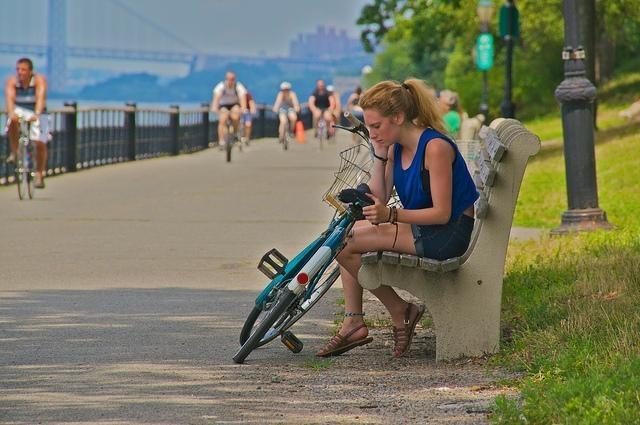bicycle: (236, 113, 376, 365), (14, 118, 36, 202), (217, 112, 240, 164), (238, 108, 260, 150), (280, 110, 299, 148), (316, 107, 330, 150)
